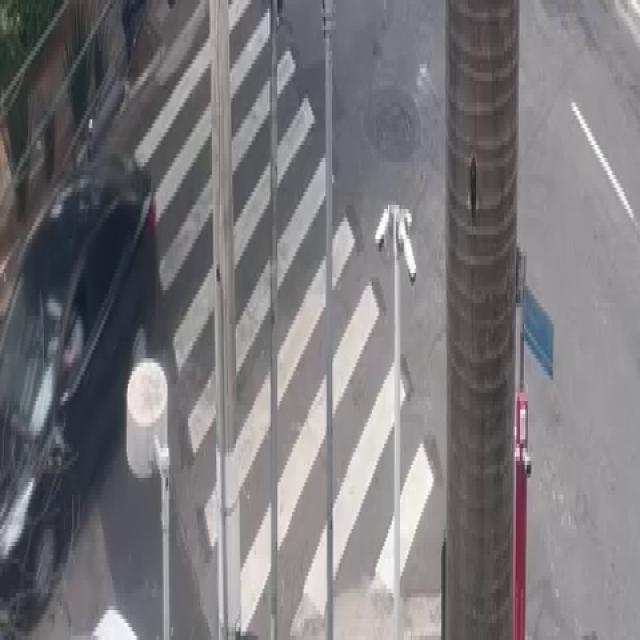car: (0, 152, 163, 629)
